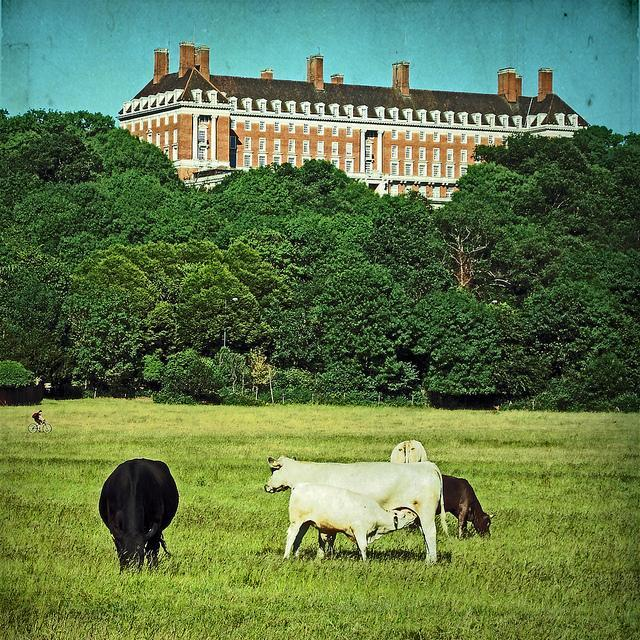cow: (263, 453, 451, 564), (278, 480, 416, 564), (97, 457, 178, 570), (434, 475, 494, 539), (385, 437, 430, 461)
